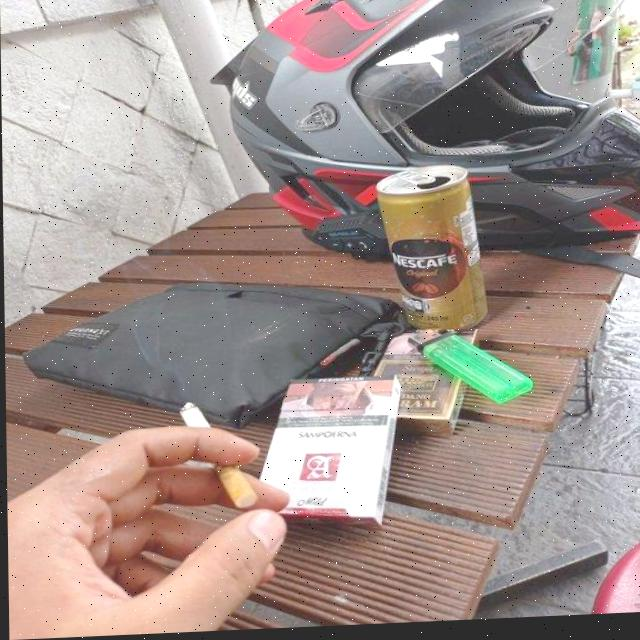cigarette: (179, 403, 254, 510)
